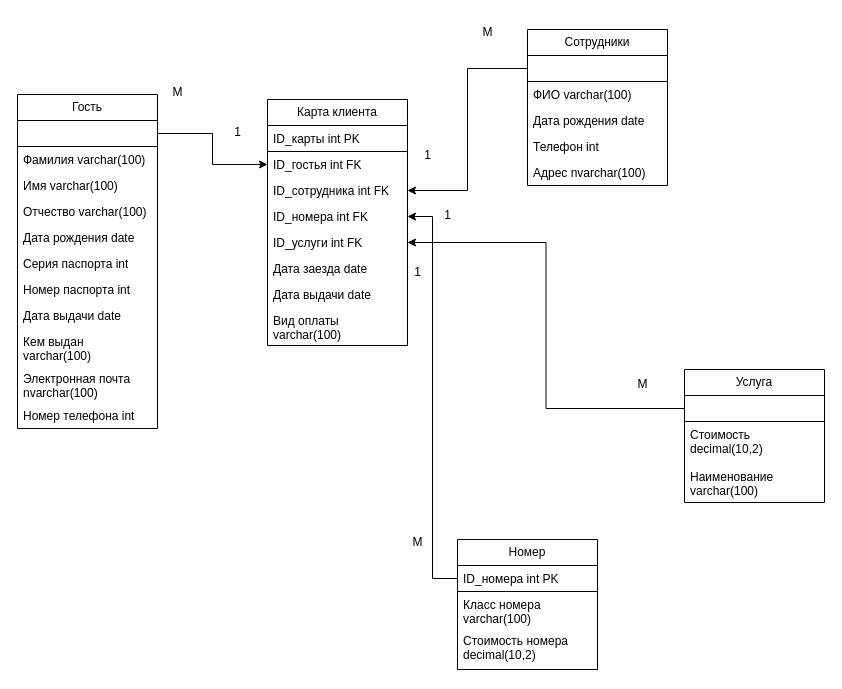
Image size: 842x689. Some labels were removed from this diagram. The shapes that lost their labels are listed below. From the top down, each one's centre as x and y in pixels, then its label:
At (x=597, y=68): "ID_сотрудника int PK".
At (x=87, y=133): "ID_гостья int PK".
At (x=754, y=408): "ID_услуги int PK".
